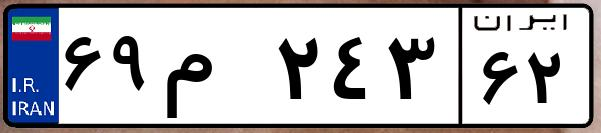2: (270, 28, 330, 110), (525, 38, 570, 115)
3: (385, 28, 445, 110)
4: (330, 28, 385, 110)
6: (57, 26, 110, 100), (475, 38, 525, 113)
9: (110, 28, 158, 98)
م: (158, 20, 270, 120)
